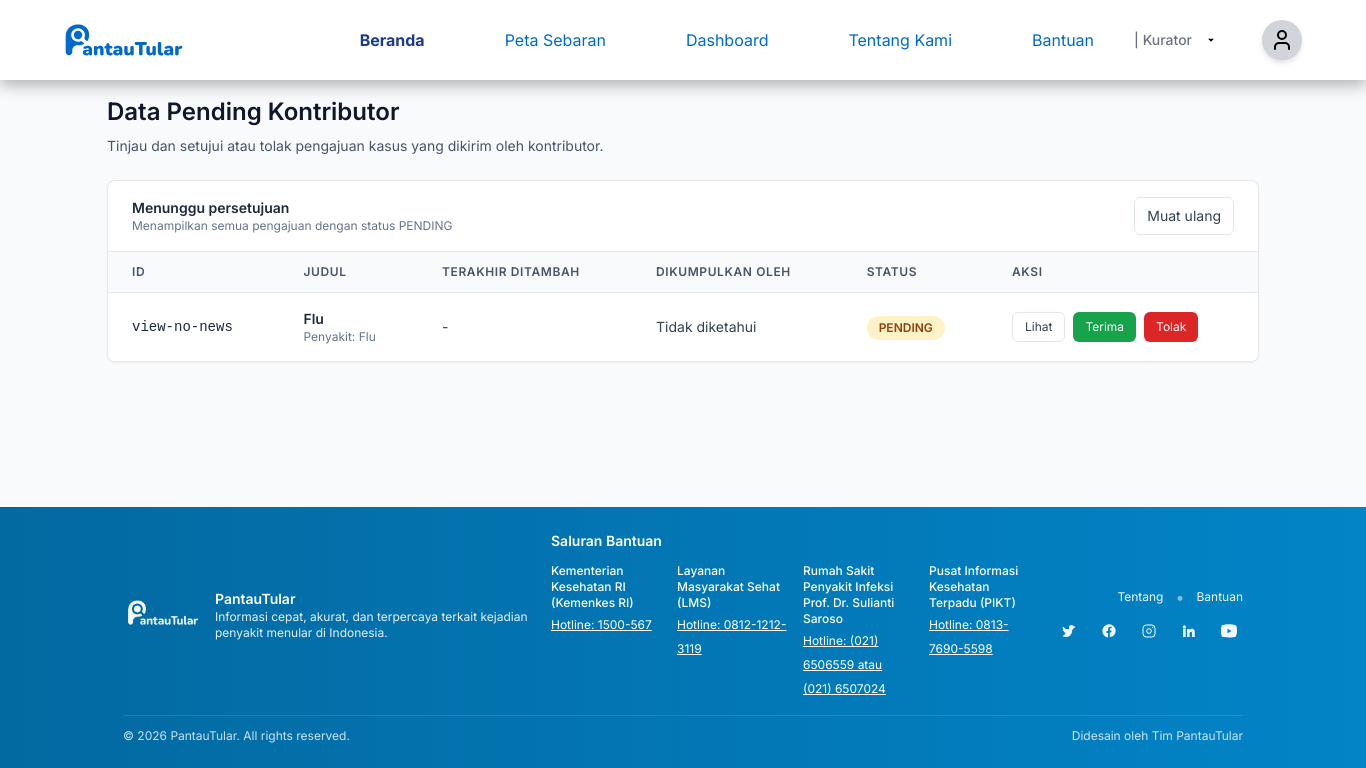
view modal shows "Tidak ada data sumber." when news missing and shows review_note
Step 1. Click the button "Lihat" → (1039, 327), box [1012,312,1066,342]
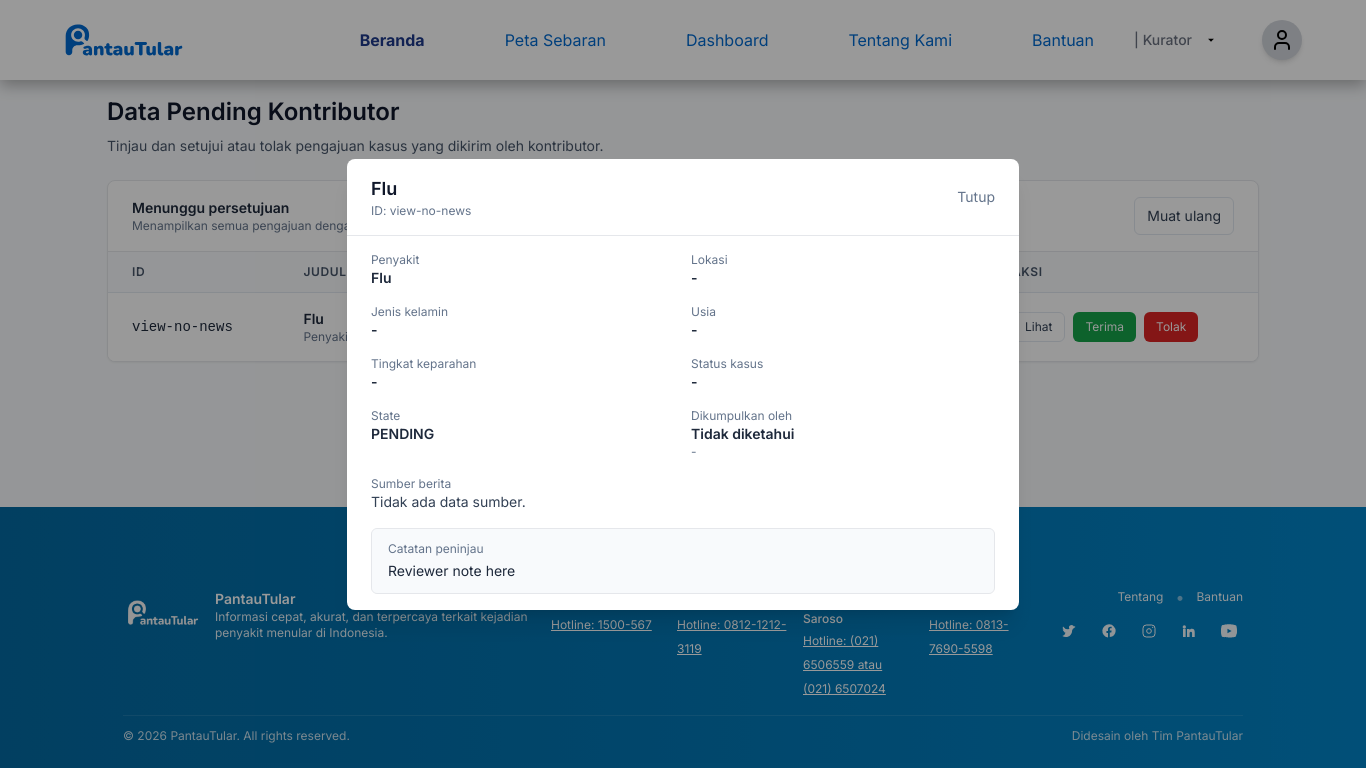
Expected: the text "Tidak ada data sumber." is shown, [371,492,526,510]
Expected: the text "Reviewer note here" is shown, [388,562,515,578]
close modal
Step 2. Click the button "Tutup" → (976, 196), box [957,186,995,206]
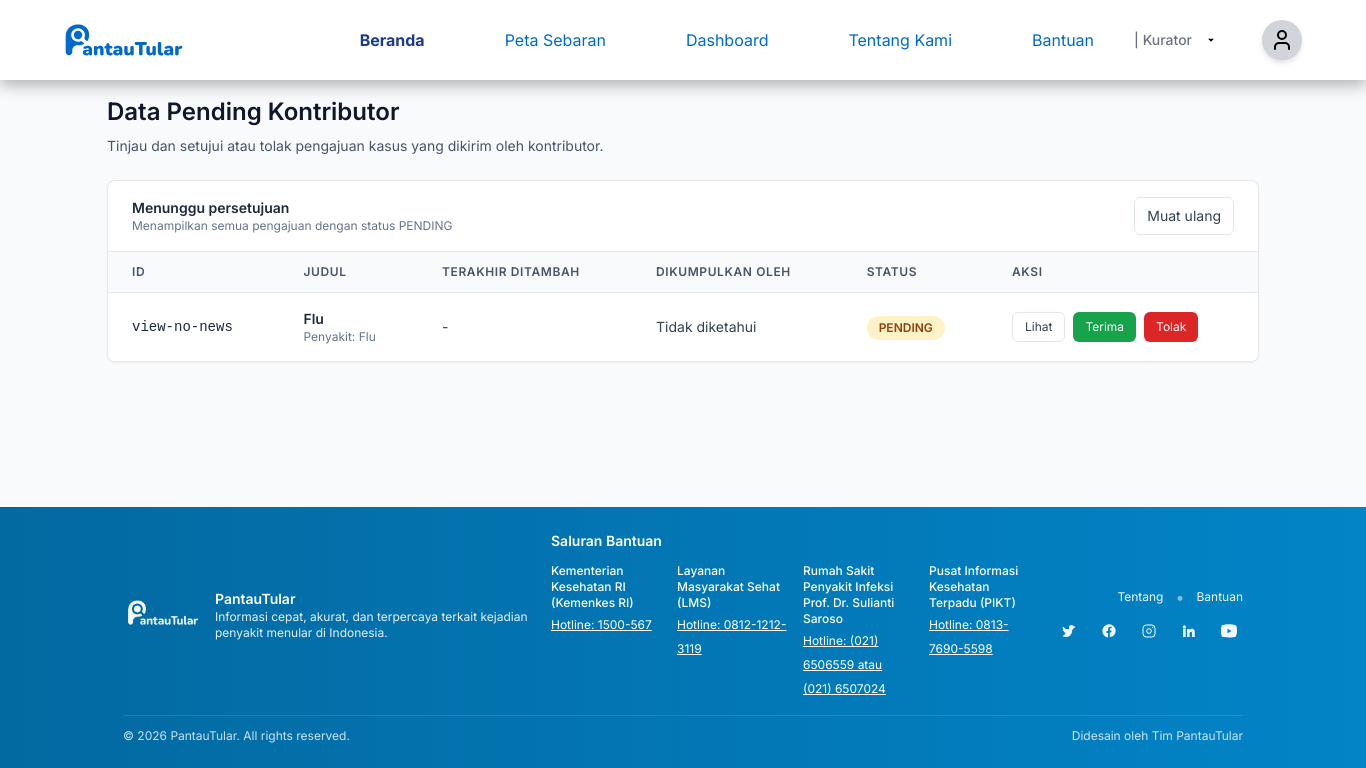
Expected: the text "Reviewer note here" is gone
